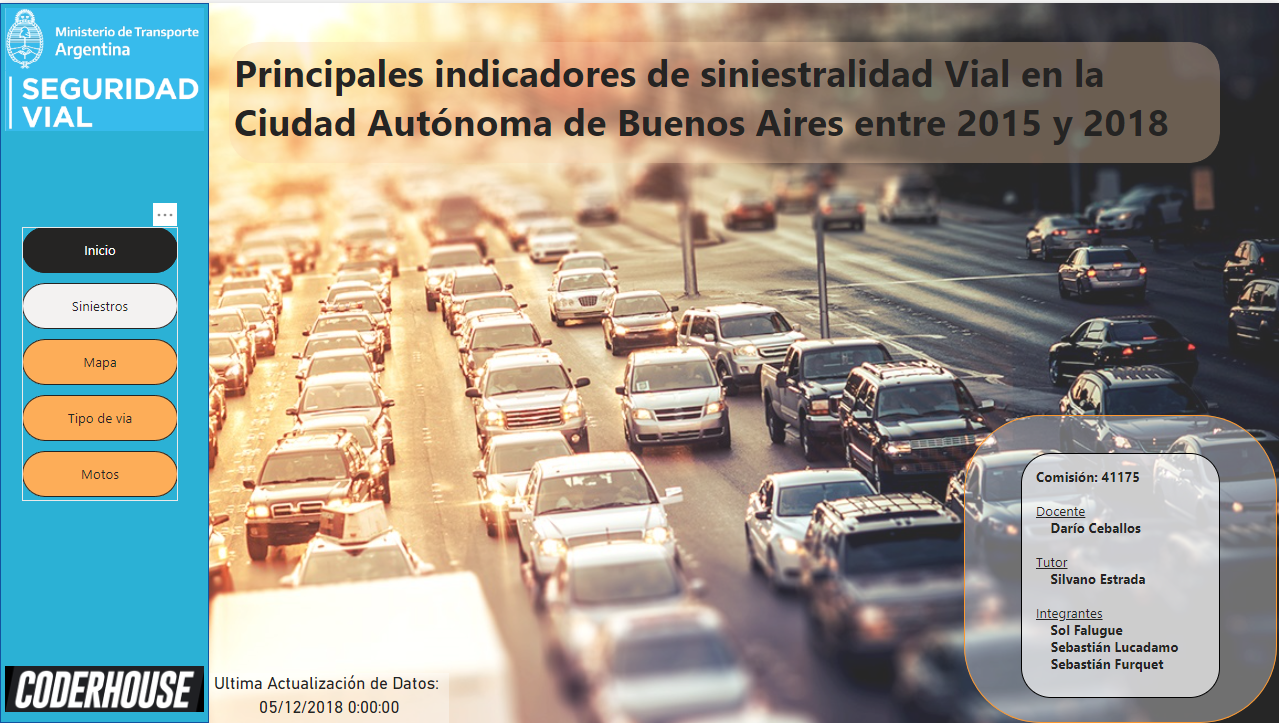

The page's visual inventory and layout, read from the dashboard file:
{"tool":"powerbi","page":{"name":"Inicio","canvas":[1280,720],"ordinal":0},"visuals":[{"type":"shape","box":[0,0,208.9,720],"z":0},{"type":"image","box":[0,0,208.9,133.3],"z":1000},{"type":"image","box":[0,652.2,208.9,67.8],"z":2000},{"type":"pageNavigator","box":[22,224,156,274],"z":3000},{"type":"shape","box":[964.4,412.2,313.3,307.8],"z":3000,"group":"g1"},{"type":"textbox","box":[1021.1,450,198.9,245.6],"z":4000,"group":"g1"},{"type":"card","title":"Ultima Actualización de Datos:","fields":{"Values":["Medidas.Última actualización"]},"box":[209,670,240,50],"z":4000},{"type":"shape","box":[228.9,38.9,991.1,121.1],"z":5000},{"type":"textbox","box":[228.9,38.9,965.6,121.1],"z":6000},{"type":"group","id":"g1","title":"Grupo 1","box":[964.4,412.2,313.3,307.8],"z":7000}]}

Visuals, with their boxes in screenshot pixels (x1, y1, x2, y2), scaled from the page's 1280x720 canvas onto the 1279x723 screenshot:
shape: bbox=[0, 0, 209, 722]
image: bbox=[0, 0, 209, 134]
image: bbox=[0, 655, 209, 722]
pageNavigator: bbox=[22, 225, 178, 500]
shape: bbox=[964, 414, 1277, 722]
textbox: bbox=[1020, 452, 1219, 698]
"Ultima Actualización de Datos:" card: bbox=[209, 673, 449, 722]
shape: bbox=[229, 39, 1219, 161]
textbox: bbox=[229, 39, 1194, 161]
"Grupo 1" group: bbox=[964, 414, 1277, 722]
